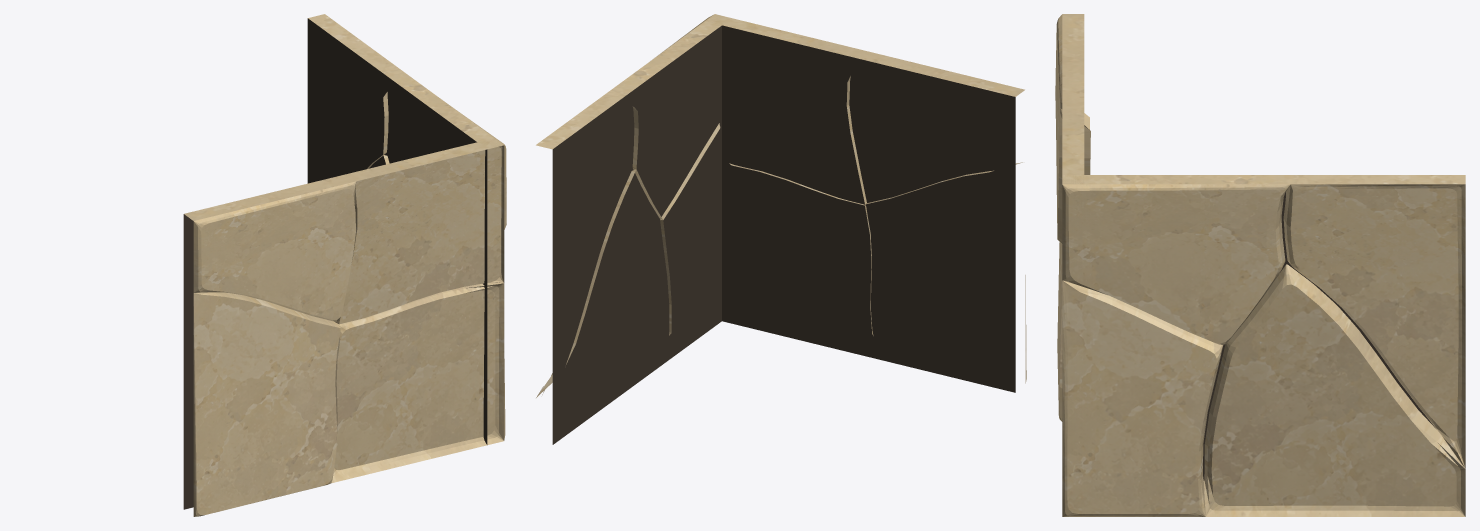
The model's file is ground_corner_04.glb.
3 renders of one model, left to right at view 1: azimuth 30°, elevation 25°; view 2: azimuth 150°, elevation 25°; view 3: azimuth 270°, elevation 25°, orthographic. The views are drawn at different scales.
Visible parts, largest first — view 1: GroundCorner04_Body; view 2: GroundCorner04_Body; view 3: GroundCorner04_Body.
Boxes of the visible parts, <box> form: GroundCorner04_Body: <box>183,14,506,516</box>; GroundCorner04_Body: <box>536,14,1026,444</box>; GroundCorner04_Body: <box>1055,14,1465,516</box>.
Size of the model in its own units: 1.02 by 0.91 by 1.02.
10 materials, 9 textured.
